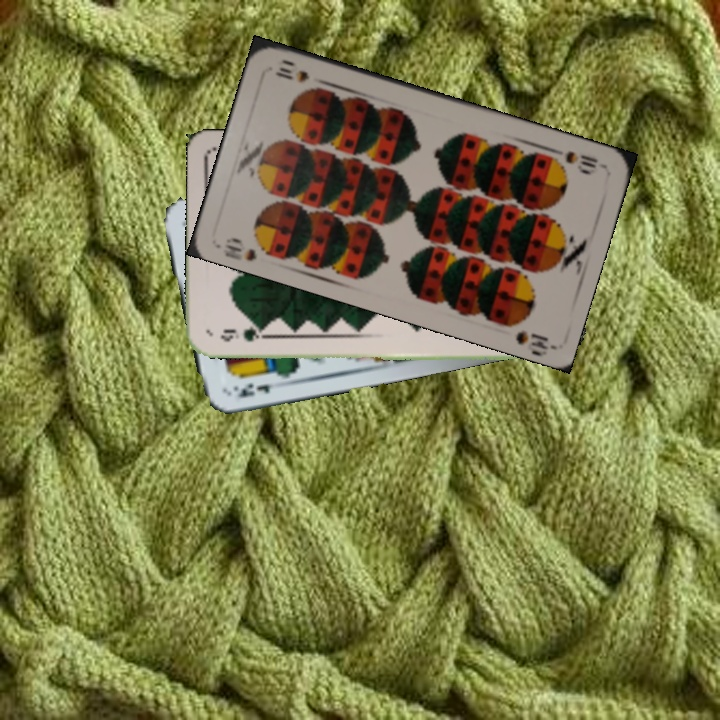EK: (229, 379, 273, 401)
G9: (216, 323, 269, 344)
S10: (219, 233, 274, 264), (561, 147, 600, 175)
